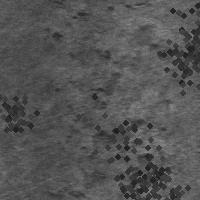rolled-in_scale: (69, 81, 179, 191), (54, 45, 126, 197), (108, 134, 196, 200), (104, 96, 168, 177), (144, 0, 200, 83), (102, 148, 190, 200), (151, 23, 200, 95), (0, 76, 45, 140)
